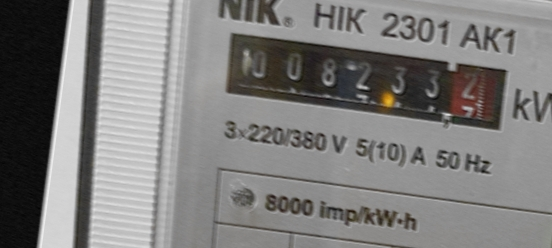0: (247, 46, 271, 80), (283, 49, 305, 82)
2: (352, 58, 376, 92), (460, 68, 481, 102)
3: (388, 62, 409, 95), (423, 66, 444, 99)
8: (318, 54, 340, 88)
screen: (212, 19, 521, 140)
